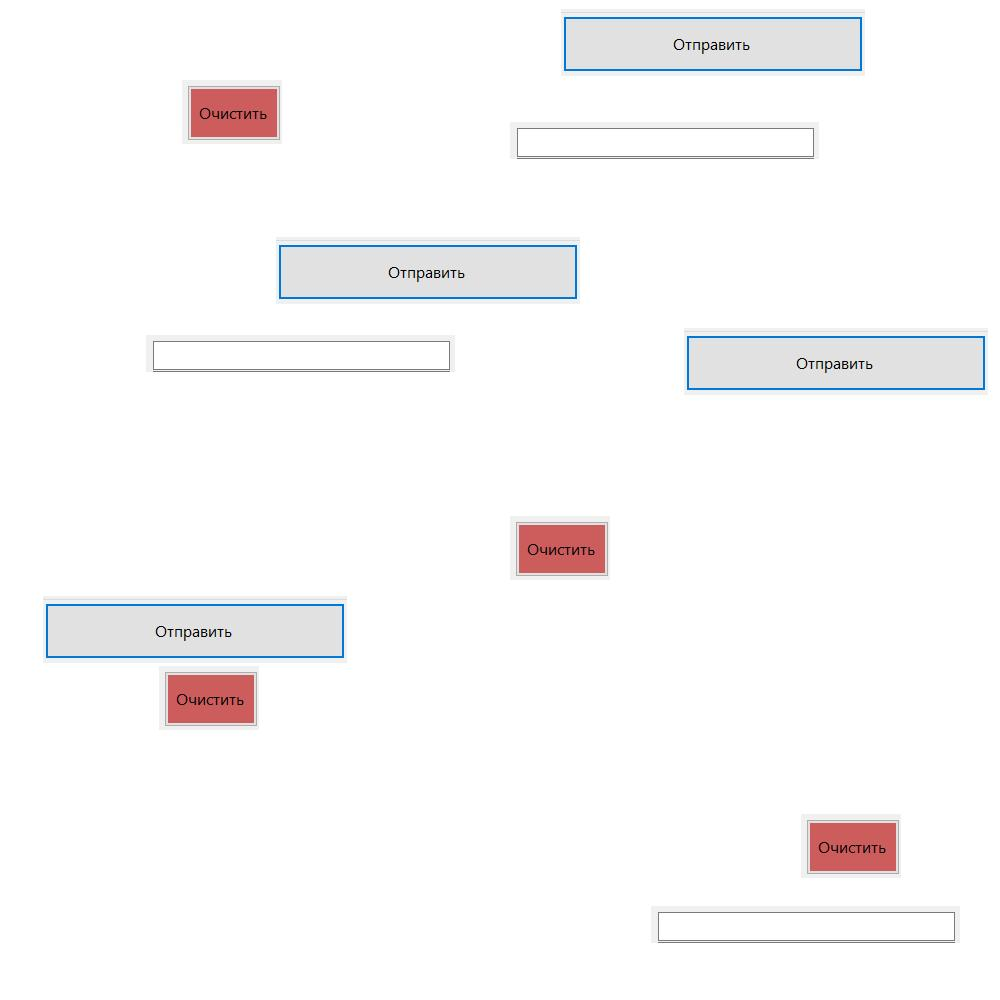Button: (43, 596, 347, 663), (684, 328, 988, 395), (276, 237, 580, 304), (561, 9, 865, 76), (182, 80, 282, 144), (159, 666, 259, 730), (510, 516, 610, 580), (801, 814, 901, 878)
EditText-: (146, 335, 455, 372), (651, 906, 960, 943), (510, 122, 819, 159)
